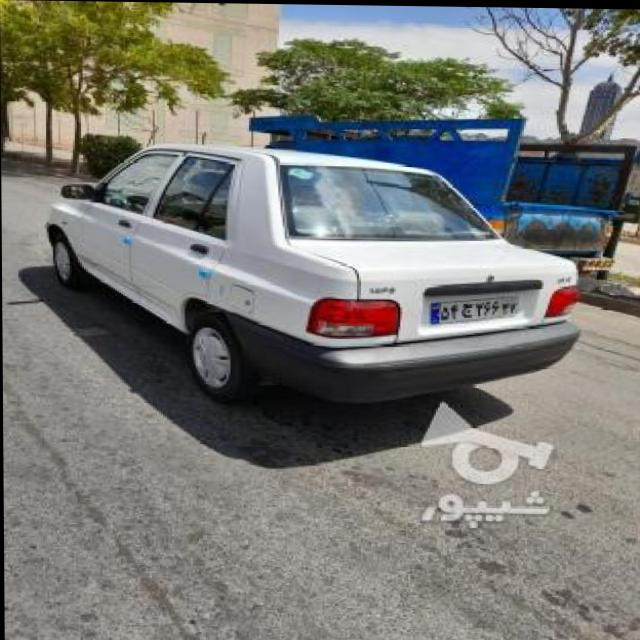licence: (426, 291, 517, 325)
